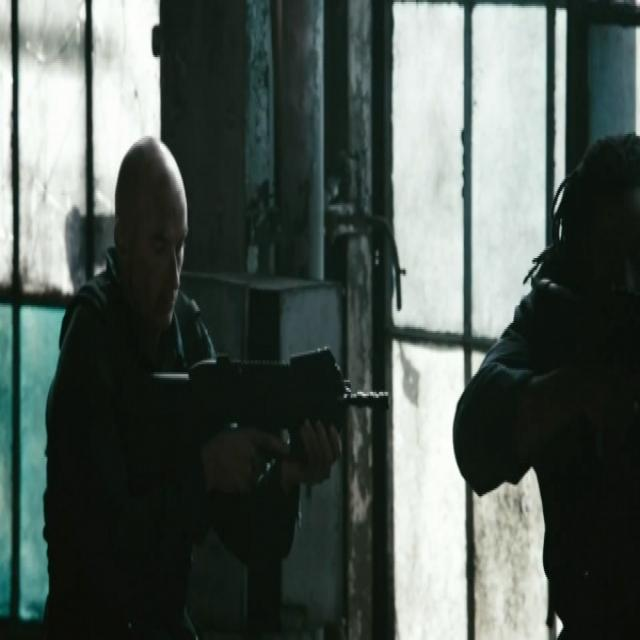rifle: (150, 344, 396, 468)
